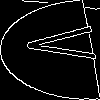V: (25, 25, 100, 63)
